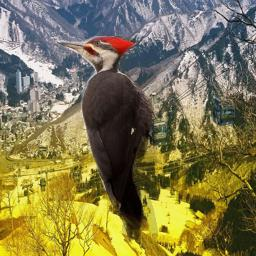Woodpecker: (52, 36, 160, 241)
